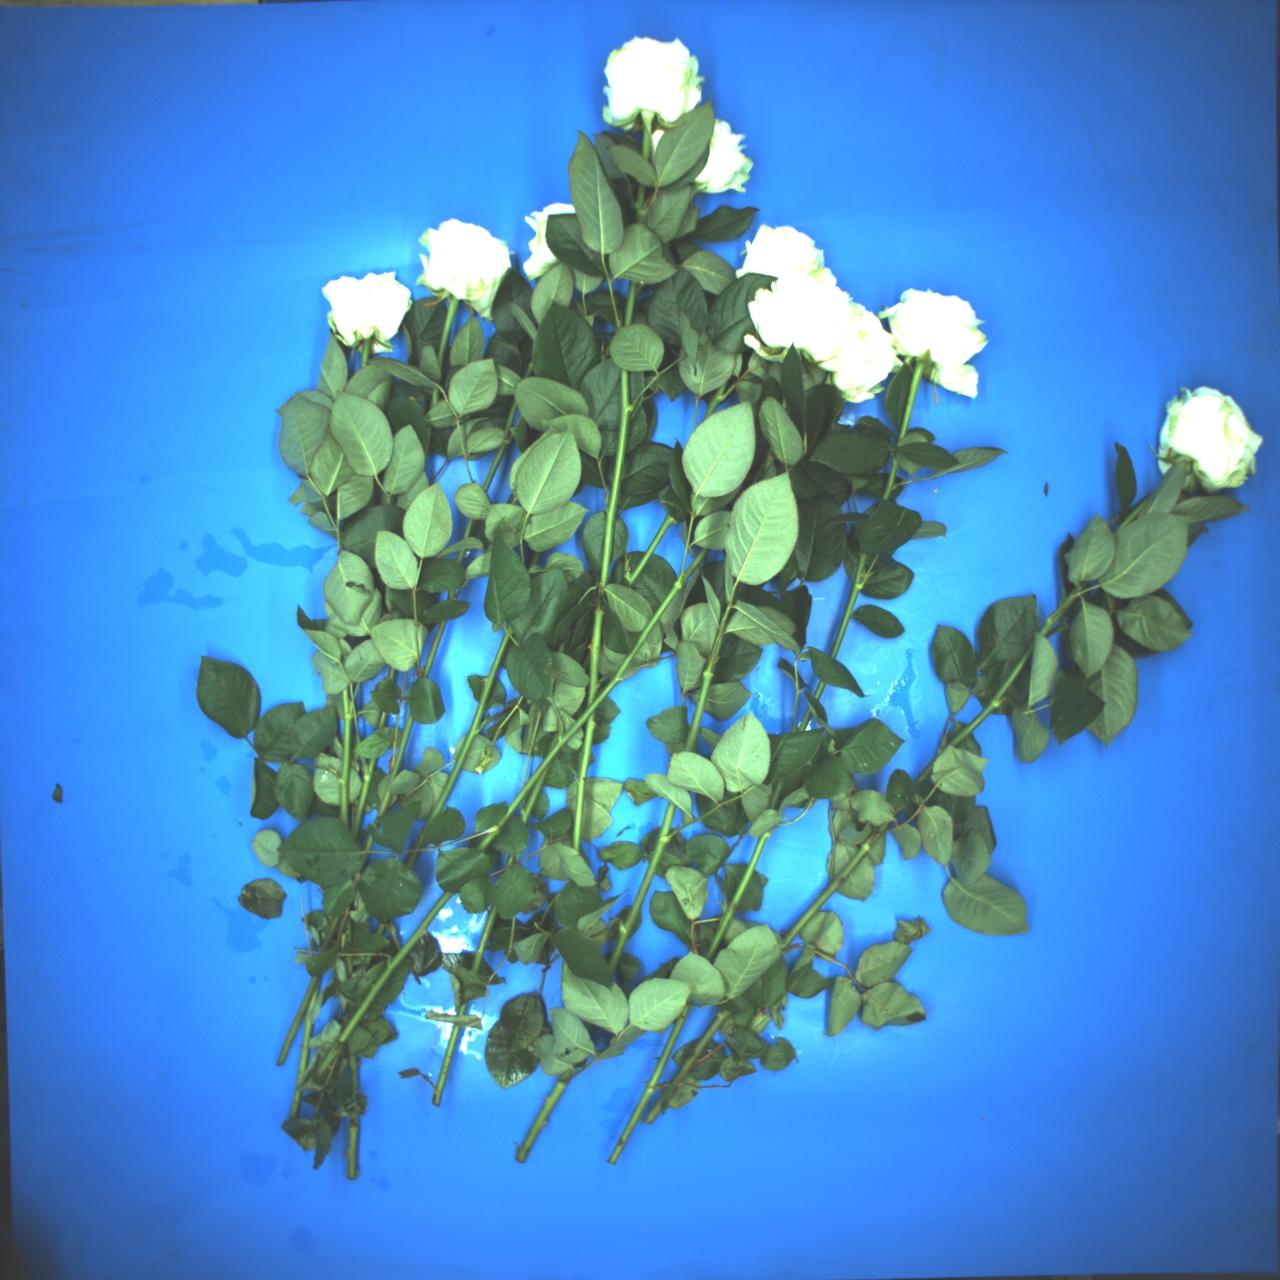Stem: (468, 545, 719, 853), (308, 885, 456, 1081), (403, 624, 518, 873), (901, 640, 1050, 787), (602, 999, 700, 1166), (598, 802, 685, 974), (779, 818, 893, 946), (640, 1006, 733, 1126), (700, 821, 778, 962), (588, 369, 639, 588), (681, 618, 729, 753), (515, 1067, 574, 1164), (822, 551, 876, 659), (288, 976, 324, 1121), (475, 399, 529, 492), (618, 515, 680, 588), (430, 999, 469, 1108), (275, 974, 320, 1067), (570, 712, 598, 853), (347, 756, 377, 838), (336, 688, 353, 829), (1037, 585, 1081, 636), (894, 367, 924, 442), (517, 762, 551, 826), (387, 714, 415, 790), (470, 905, 499, 975), (586, 605, 606, 707), (434, 299, 458, 372), (1112, 495, 1153, 536), (347, 1054, 360, 1179), (697, 380, 735, 422), (421, 618, 447, 678), (319, 913, 340, 958), (881, 456, 900, 502), (356, 832, 376, 871), (796, 706, 816, 736), (624, 281, 636, 327), (768, 779, 785, 811), (633, 183, 646, 224), (376, 789, 393, 821), (641, 125, 652, 162), (422, 427, 433, 459), (462, 517, 476, 542), (361, 336, 372, 368), (812, 680, 826, 701), (343, 915, 352, 948), (503, 855, 516, 874), (375, 917, 388, 935), (376, 712, 388, 730), (558, 960, 570, 979), (524, 361, 536, 379), (429, 388, 438, 409), (457, 547, 467, 563), (388, 667, 395, 682), (448, 588, 456, 601)
flower: (735, 246, 876, 387), (1149, 379, 1272, 501), (867, 281, 995, 399), (402, 204, 520, 318), (811, 308, 914, 411), (605, 36, 702, 127), (322, 271, 414, 348), (506, 191, 577, 287), (690, 118, 764, 207), (737, 224, 825, 280)
